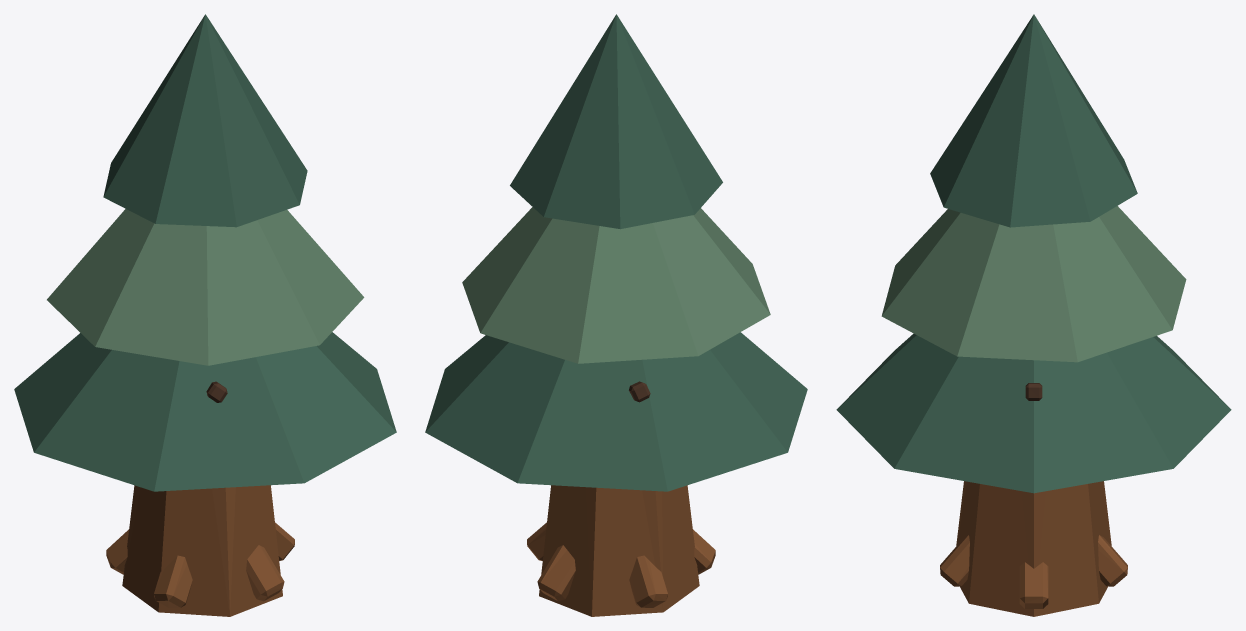
The model's file is tree_pine_a.glb.
3 views of the same model, side by side, from view 1: azimuth 30°, elevation 25°; view 2: azimuth 150°, elevation 25°; view 3: azimuth 270°, elevation 25° (orthographic).
Parts seen in each view (by area): view 1: canopy, trunk; view 2: canopy, trunk; view 3: canopy, trunk.
Part boxes in pixels (<box>): canopy: <box>14,14,396,491</box>; trunk: <box>106,485,294,616</box>; canopy: <box>425,14,807,491</box>; trunk: <box>527,485,715,616</box>; canopy: <box>836,14,1231,493</box>; trunk: <box>940,481,1127,616</box>.
Size of the model in its own units: 1.52 by 2.41 by 1.52.
